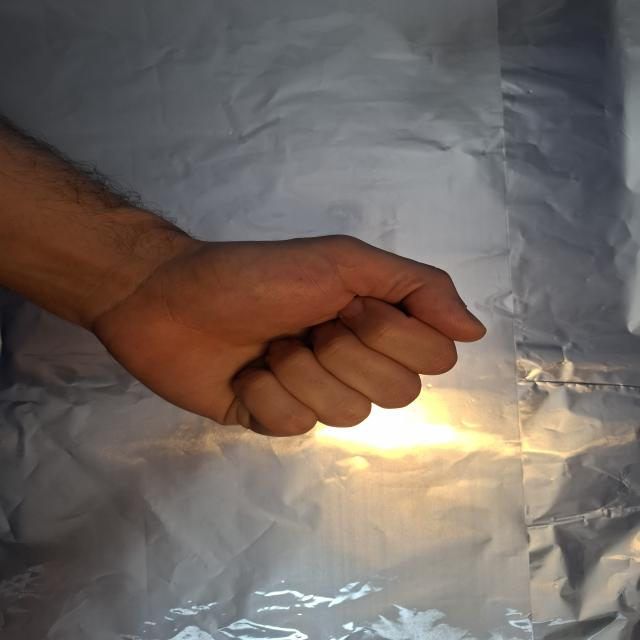glove_off: (84, 217, 491, 440)
